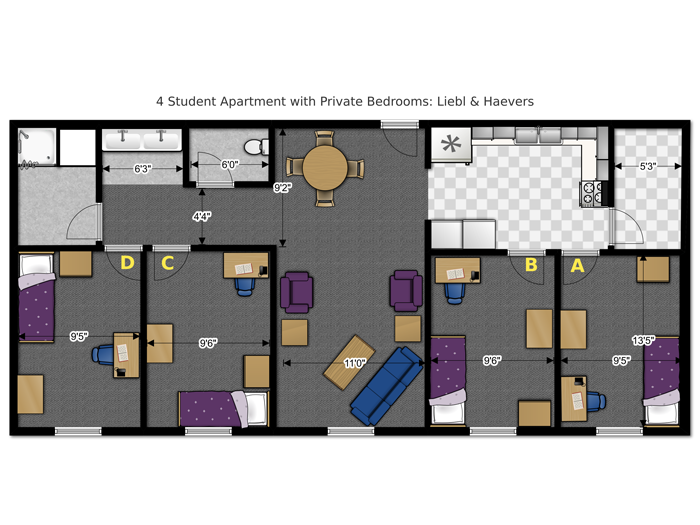room: (11, 245, 146, 436), (142, 244, 277, 435), (425, 248, 562, 435), (555, 249, 691, 435)
window: (55, 426, 102, 435), (184, 427, 231, 436), (327, 427, 374, 436), (471, 427, 518, 436), (596, 427, 643, 436)
